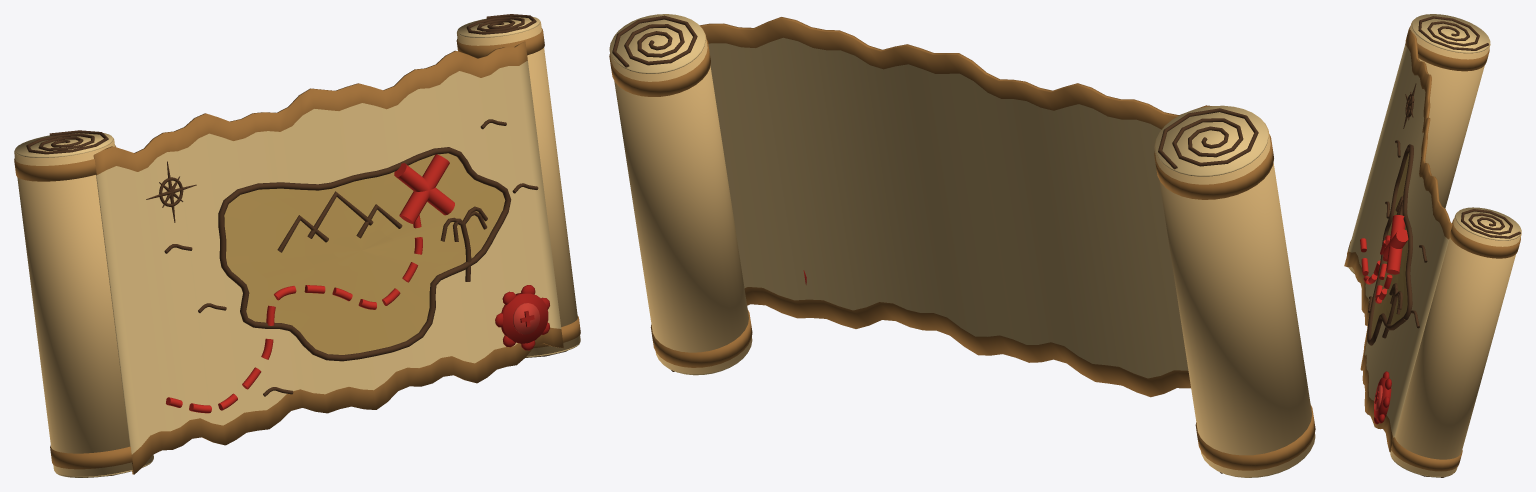
File: map_scroll.glb
The picture shows the model from 3 angles, left to right: view 1: azimuth 30°, elevation 25°; view 2: azimuth 150°, elevation 25°; view 3: azimuth 270°, elevation 25°; orthographic projection. The views are drawn at different scales.
Visible parts, largest first — view 1: map_scroll; view 2: map_scroll; view 3: map_scroll.
Part boxes in pixels (x1=…): map_scroll: x1=14, y1=14, x2=580, y2=477; map_scroll: x1=609, y1=14, x2=1315, y2=477; map_scroll: x1=1344, y1=14, x2=1521, y2=477.
Bounding box in the file's own units: 1 × 0.5737 × 0.35.
